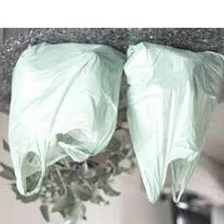plastic_bag: (6, 40, 127, 200), (121, 38, 224, 208)
